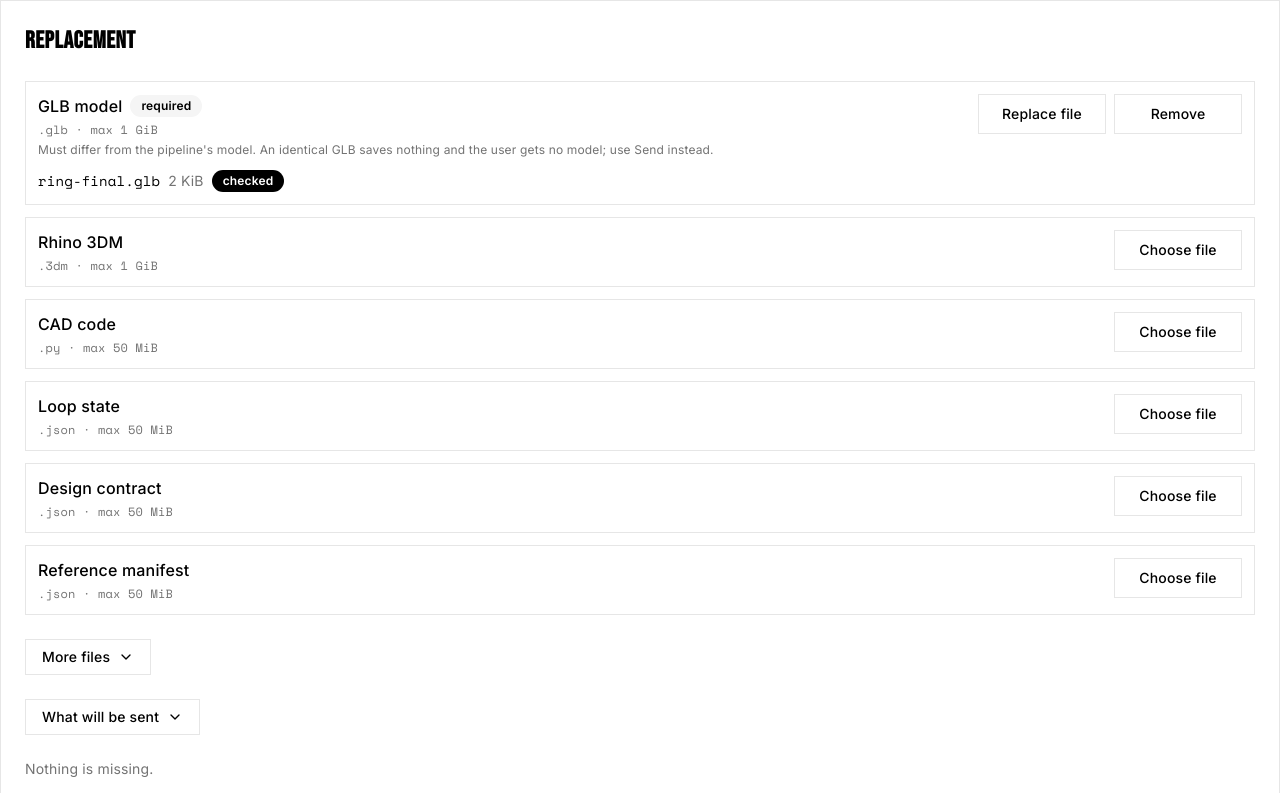
Test case: SupervisedReplacementPanel › says the file was already removed when Remove meets no_verified_upload
Click the button "Remove" at (1178, 114), box [1114,94,1242,134]
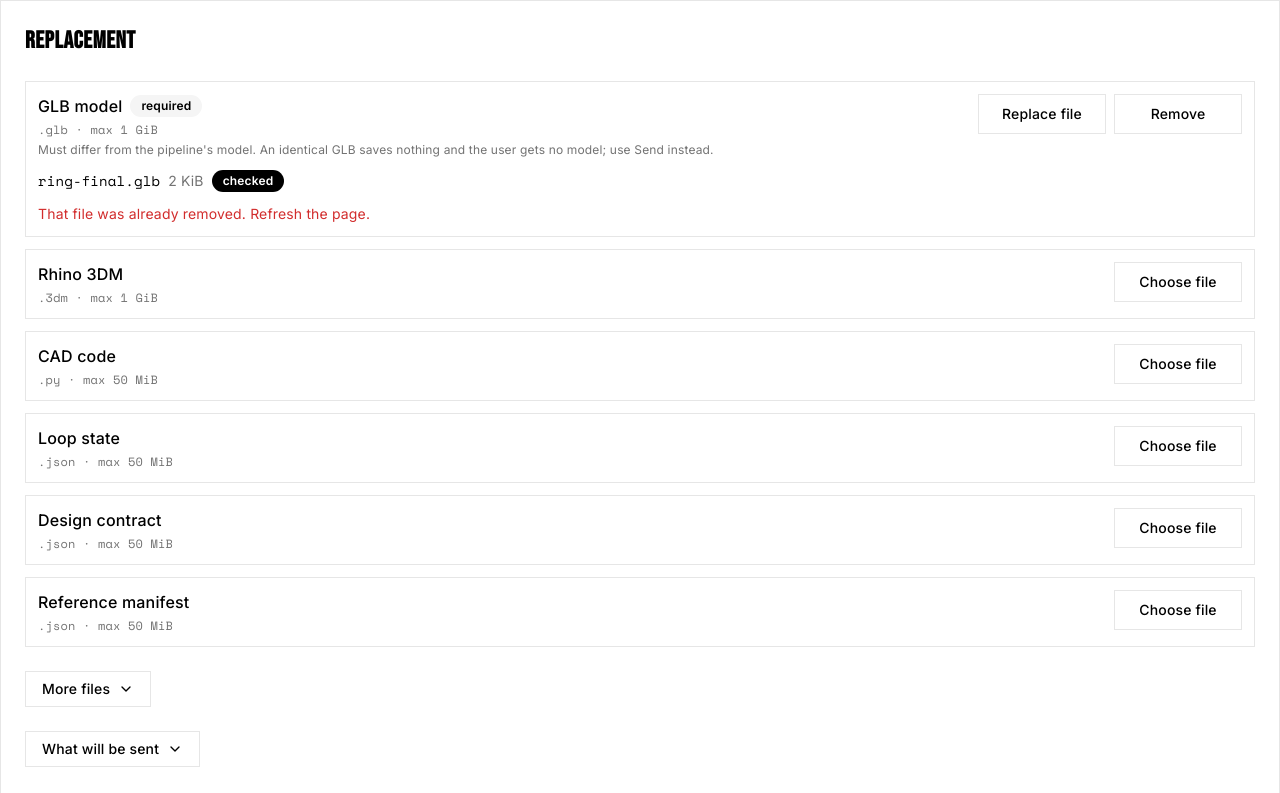
Result: the text "That file was already removed. Refresh the page." is shown at [38,205,370,222]
